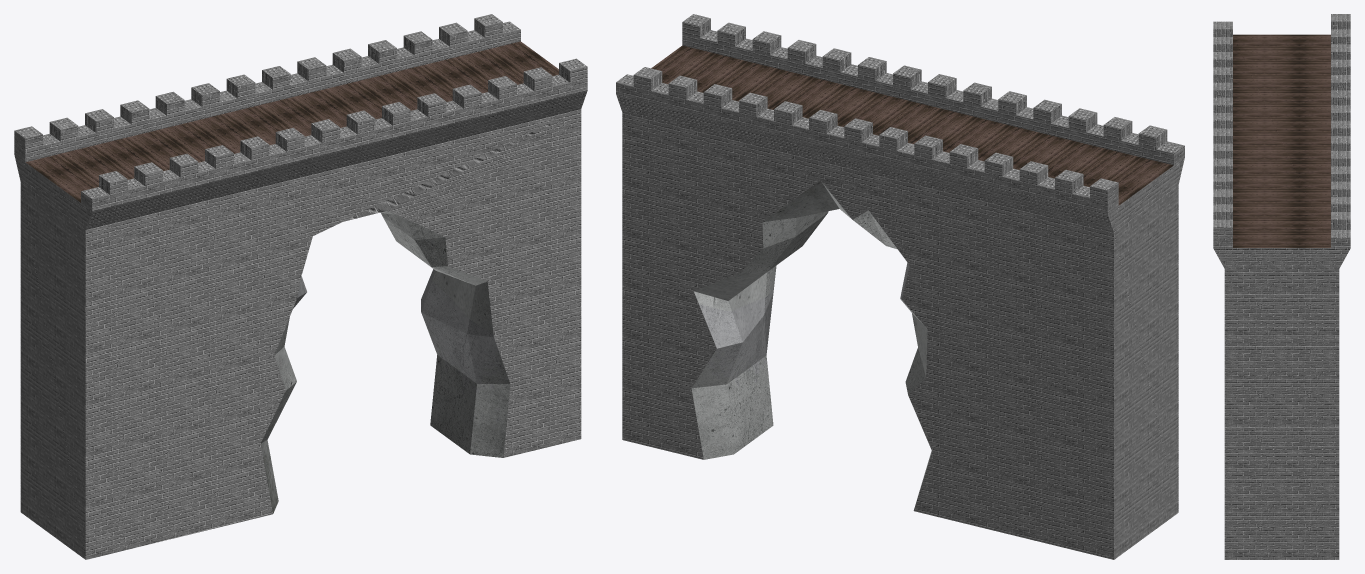
Rendered from wallbreach.fbx.
3 views of the same model, side by side, from view 1: azimuth 30°, elevation 25°; view 2: azimuth 150°, elevation 25°; view 3: azimuth 270°, elevation 25° (orthographic). The views are drawn at different scales.
Visible parts, largest first — view 1: wallbreach; view 2: wallbreach; view 3: wallbreach.
Boxes of the visible parts, <box> form: wallbreach: <box>14,14,587,559</box>; wallbreach: <box>616,14,1184,559</box>; wallbreach: <box>1213,14,1350,559</box>.
Bounding box in the file's own units: 2200 × 1600 × 600.
